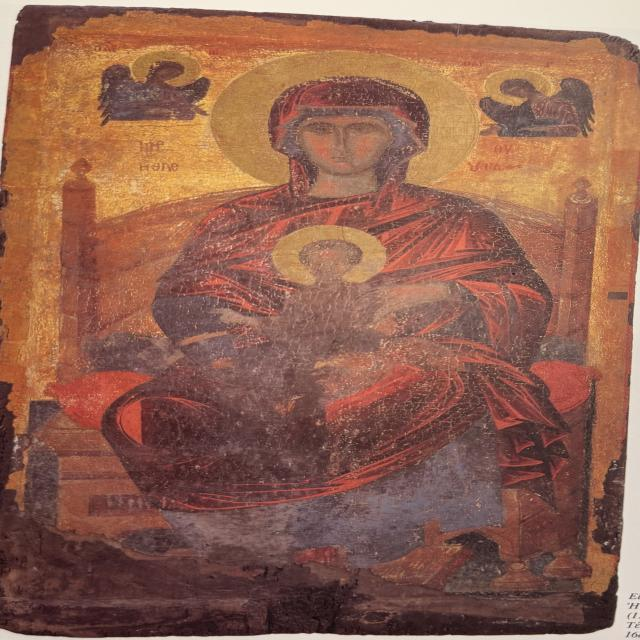angel: (67, 35, 224, 135), (467, 59, 611, 153)
aura: (211, 50, 483, 194), (268, 225, 392, 287), (128, 46, 206, 93), (482, 68, 558, 106)
christ_child: (223, 210, 419, 421)
christ_hand: (201, 302, 275, 340)
mary_and_child: (202, 48, 493, 548)
wing: (548, 76, 608, 140), (82, 66, 140, 129), (171, 79, 220, 105), (478, 98, 520, 128)
